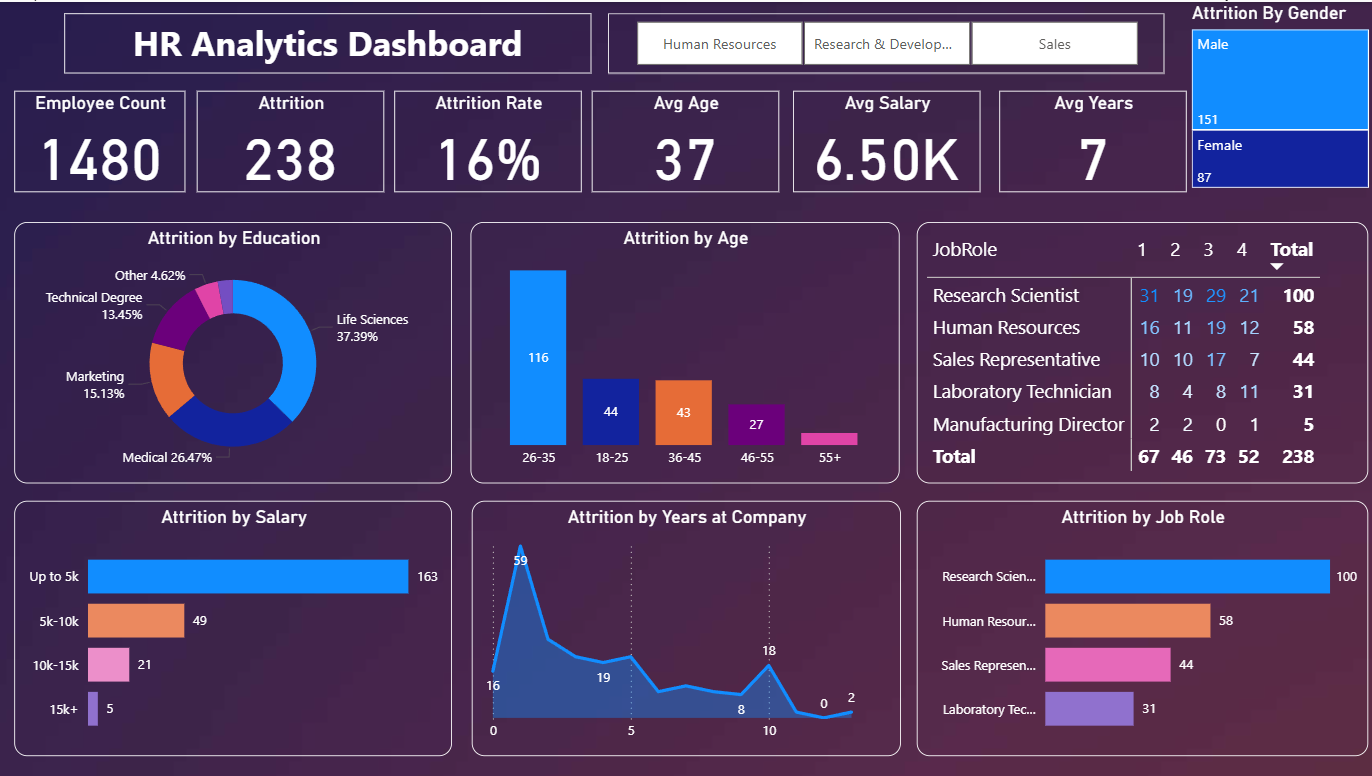

The page's visual inventory and layout, read from the dashboard file:
{"tool":"powerbi","page":{"name":"Page 1","canvas":[1280,720],"ordinal":0},"visuals":[{"type":"card","title":"Employee Count","fields":{"Values":["CountNonNull(HR_Data.EmpID)"]},"box":[15.1,82.3,159.2,94.7],"z":0},{"type":"card","title":"Attrition","fields":{"Values":["Sum(HR_Data.Attrition_Count)"]},"box":[184.9,82.6,174.4,94.2],"z":1000},{"type":"card","title":"Attrition Rate","fields":{"Values":["HR_Data.Attrition_Rate"]},"box":[368.6,82.6,174.4,94.2],"z":2000},{"type":"card","title":"Avg Age","fields":{"Values":["Avg(HR_Data.Age)"]},"box":[552.3,82.6,174.4,94.2],"z":3000},{"type":"card","title":"Avg  Salary","fields":{"Values":["Avg(HR_Data.MonthlyIncome)"]},"box":[739.5,82.6,174.4,94.2],"z":4000},{"type":"card","title":"Avg Years","fields":{"Values":["Avg(HR_Data.YearsAtCompany)"]},"box":[931.4,82.6,174.4,94.2],"z":5000},{"type":"textbox","box":[61.6,10.5,490.7,55.8],"z":6000},{"type":"slicer","title":"Departments","fields":{"Values":["Departments.Department"]},"box":[567.4,10.5,517.4,55.8],"z":7000},{"type":"treemap","title":"Attrition By Gender","fields":{"Group":["HR_Data.Gender"],"Values":["Sum(HR_Data.Attrition_Count)"]},"box":[1105.8,0,174.4,177.9],"z":8000},{"type":"donutChart","title":"Attrition by Education","fields":{"Category":["Education.Education"],"Y":["Sum(HR_Data.Attrition_Count)"]},"box":[15.1,204.5,407.5,242.9],"z":9000},{"type":"clusteredBarChart","title":"Attrition by Salary","fields":{"Y":["Sum(HR_Data.Attrition_Count)"],"Category":["HR_Data.SalarySlab"]},"box":[15.1,463.8,407.5,237.4],"z":10000},{"type":"pivotTable","title":"Attrition by Education","fields":{"Rows":["Jobs.JobRole"],"Values":["Sum(HR_Data.Attrition_Count)"],"Columns":["HR_Data.JobSatisfaction"]},"box":[854.9,204.5,419.9,242.9],"z":11000},{"type":"lineChart","title":"Attrition by Years at Company","fields":{"Y":["Sum(HR_Data.Attrition_Count)"],"Category":["HR_Data.YearsAtCompany"]},"box":[440.5,463.8,399.3,237.4],"z":12000},{"type":"columnChart","title":"Attrition by Age","fields":{"Category":["HR_Data.AgeGroup"],"Y":["Sum(HR_Data.Attrition_Count)"],"Series":["HR_Data.AgeGroup"]},"box":[439.1,204.5,399.3,242.9],"z":13000},{"type":"clusteredBarChart","title":"Attrition by Job Role","fields":{"Y":["Sum(HR_Data.Attrition_Count)"],"Category":["Jobs.JobRole"]},"box":[854.9,463.8,419.9,237.4],"z":14000}]}

Visuals, with their boxes in screenshot pixels (x1, y1, x2, y2), scaled from the page's 1280x720 canvas onto the 1372x776 screenshot:
"Employee Count" card: crop(16, 89, 187, 191)
"Attrition" card: crop(198, 89, 385, 191)
"Attrition Rate" card: crop(395, 89, 582, 191)
"Avg Age" card: crop(592, 89, 779, 191)
"Avg  Salary" card: crop(793, 89, 980, 191)
"Avg Years" card: crop(998, 89, 1185, 191)
textbox: crop(66, 11, 592, 71)
"Departments" slicer: crop(608, 11, 1163, 71)
"Attrition By Gender" treemap: crop(1185, 0, 1371, 192)
"Attrition by Education" donutChart: crop(16, 220, 453, 482)
"Attrition by Salary" clusteredBarChart: crop(16, 500, 453, 756)
"Attrition by Education" pivotTable: crop(916, 220, 1366, 482)
"Attrition by Years at Company" lineChart: crop(472, 500, 900, 756)
"Attrition by Age" columnChart: crop(471, 220, 899, 482)
"Attrition by Job Role" clusteredBarChart: crop(916, 500, 1366, 756)
